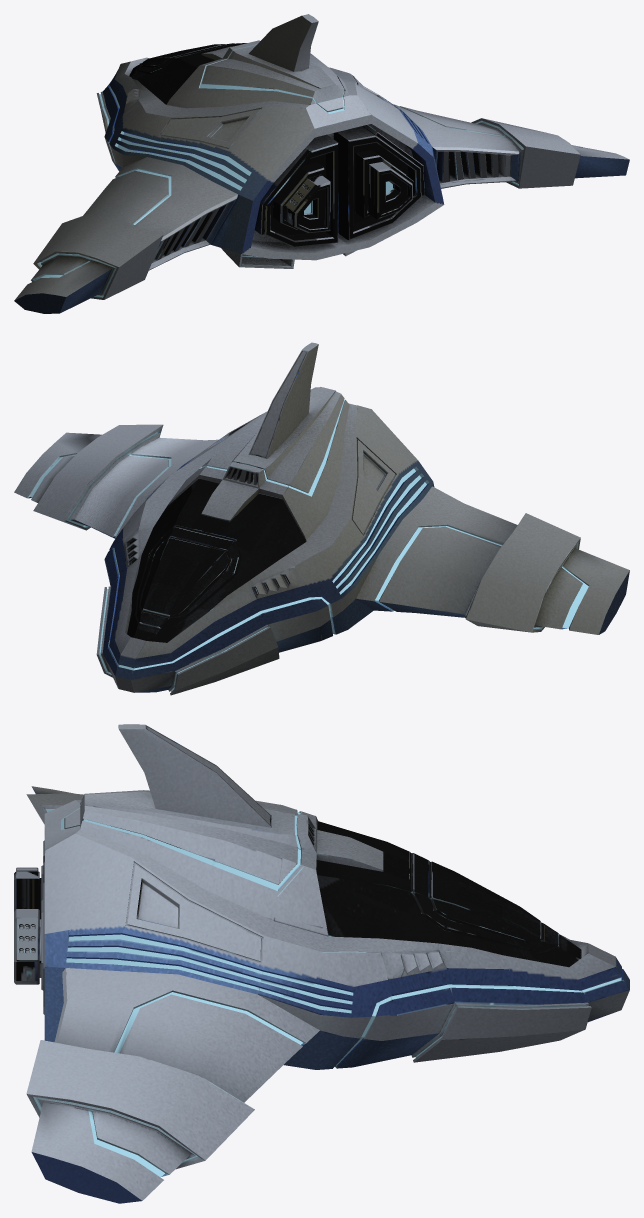
Rendered from spaceship,simple-denapes.obj.
3 renders of one model, top to bottom at view 1: azimuth 30°, elevation 25°; view 2: azimuth 150°, elevation 25°; view 3: azimuth 270°, elevation 25°, orthographic. The views are drawn at different scales.
Parts seen in each view (by area): view 1: Spaceship_Plane.001, Spaceship_Plane; view 2: Spaceship_Plane.001; view 3: Spaceship_Plane.001, Spaceship_Plane.
Part boxes in pixels (<box>): Spaceship_Plane.001: <box>14,14,629,313</box>; Spaceship_Plane: <box>152,124,510,262</box>; Spaceship_Plane.001: <box>14,342,629,695</box>; Spaceship_Plane.001: <box>26,724,629,1203</box>; Spaceship_Plane: <box>14,822,314,1014</box>.
Bounding box in the file's own units: 10.66 × 4.14 × 7.31.
1 material, 1 textured.
